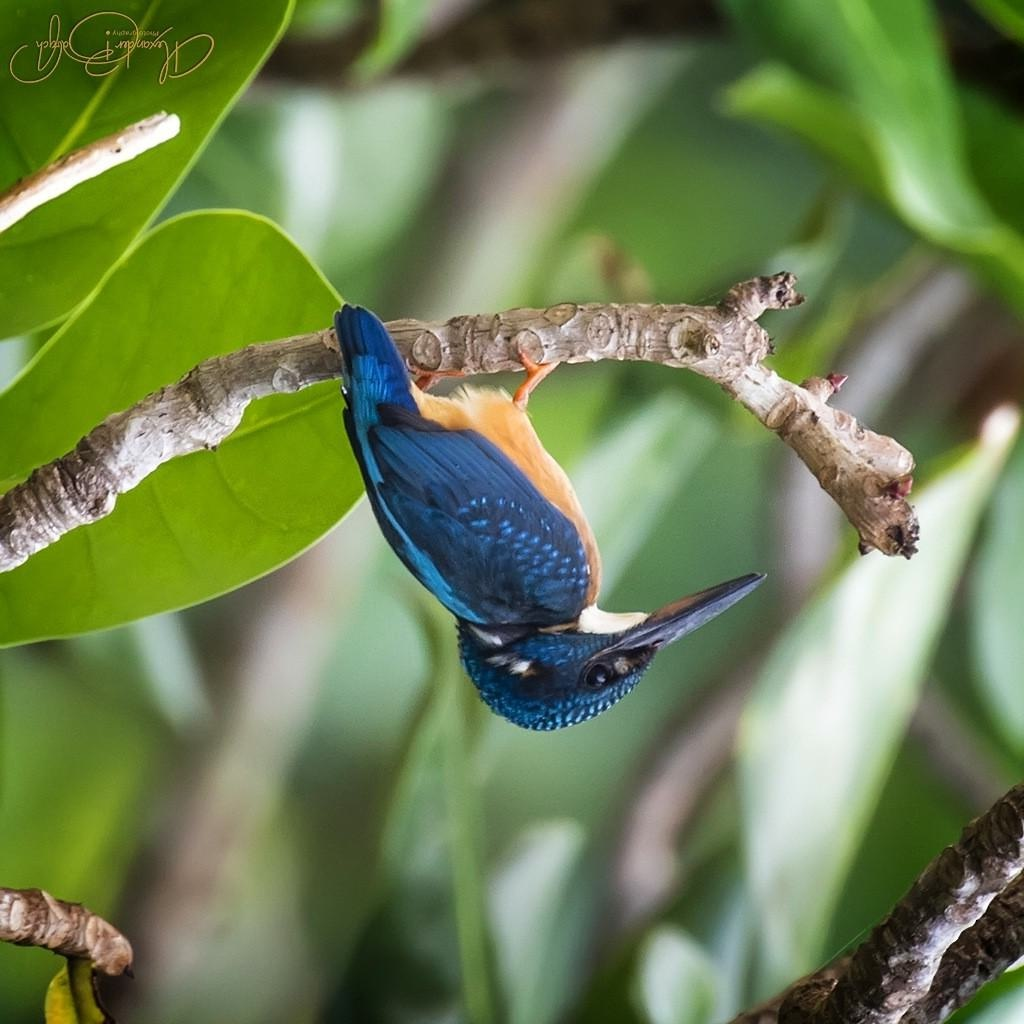kingfisher: (312, 279, 776, 750)
